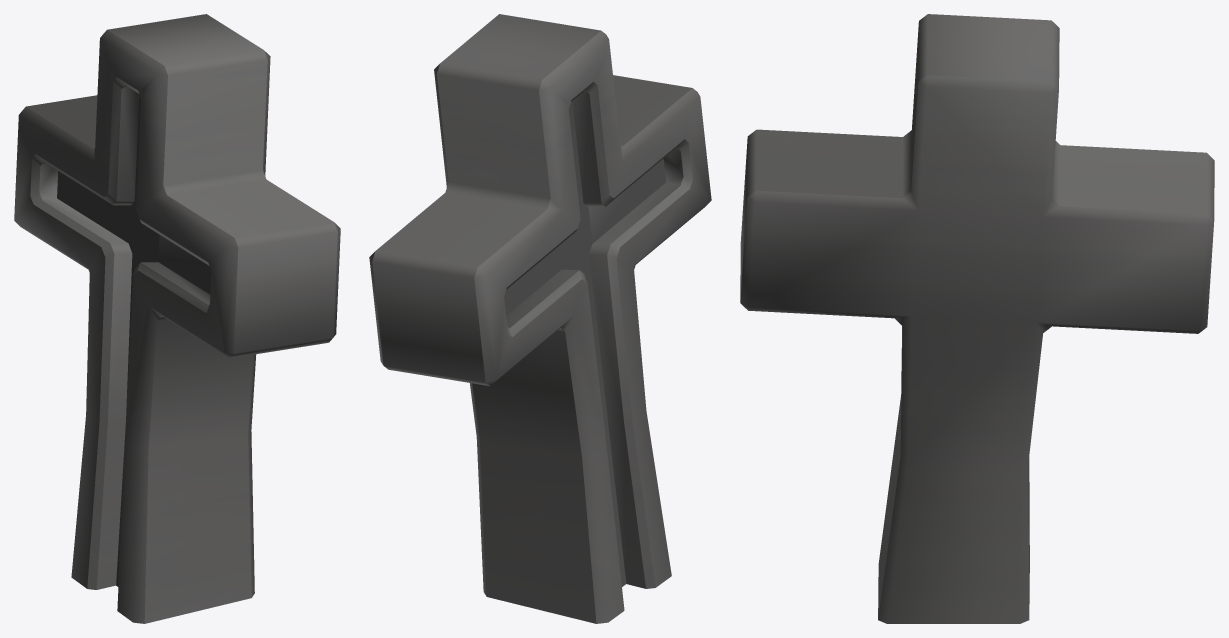
The model's file is Cross_2_2.glb.
The picture shows the model from 3 angles, left to right: view 1: azimuth 30°, elevation 25°; view 2: azimuth 150°, elevation 25°; view 3: azimuth 270°, elevation 25°; orthographic projection. The views are drawn at different scales.
Visible parts, largest first — view 1: Cross_2_2; view 2: Cross_2_2; view 3: Cross_2_2.
Boxes of the visible parts, x1,y1,x2,y2 form: Cross_2_2: (14,14,340,623); Cross_2_2: (369,14,711,623); Cross_2_2: (740,14,1214,623).
Bounding box in the file's own units: 0.3014 × 0.9838 × 0.7391.
Materials: 1 (1 with a texture image).
